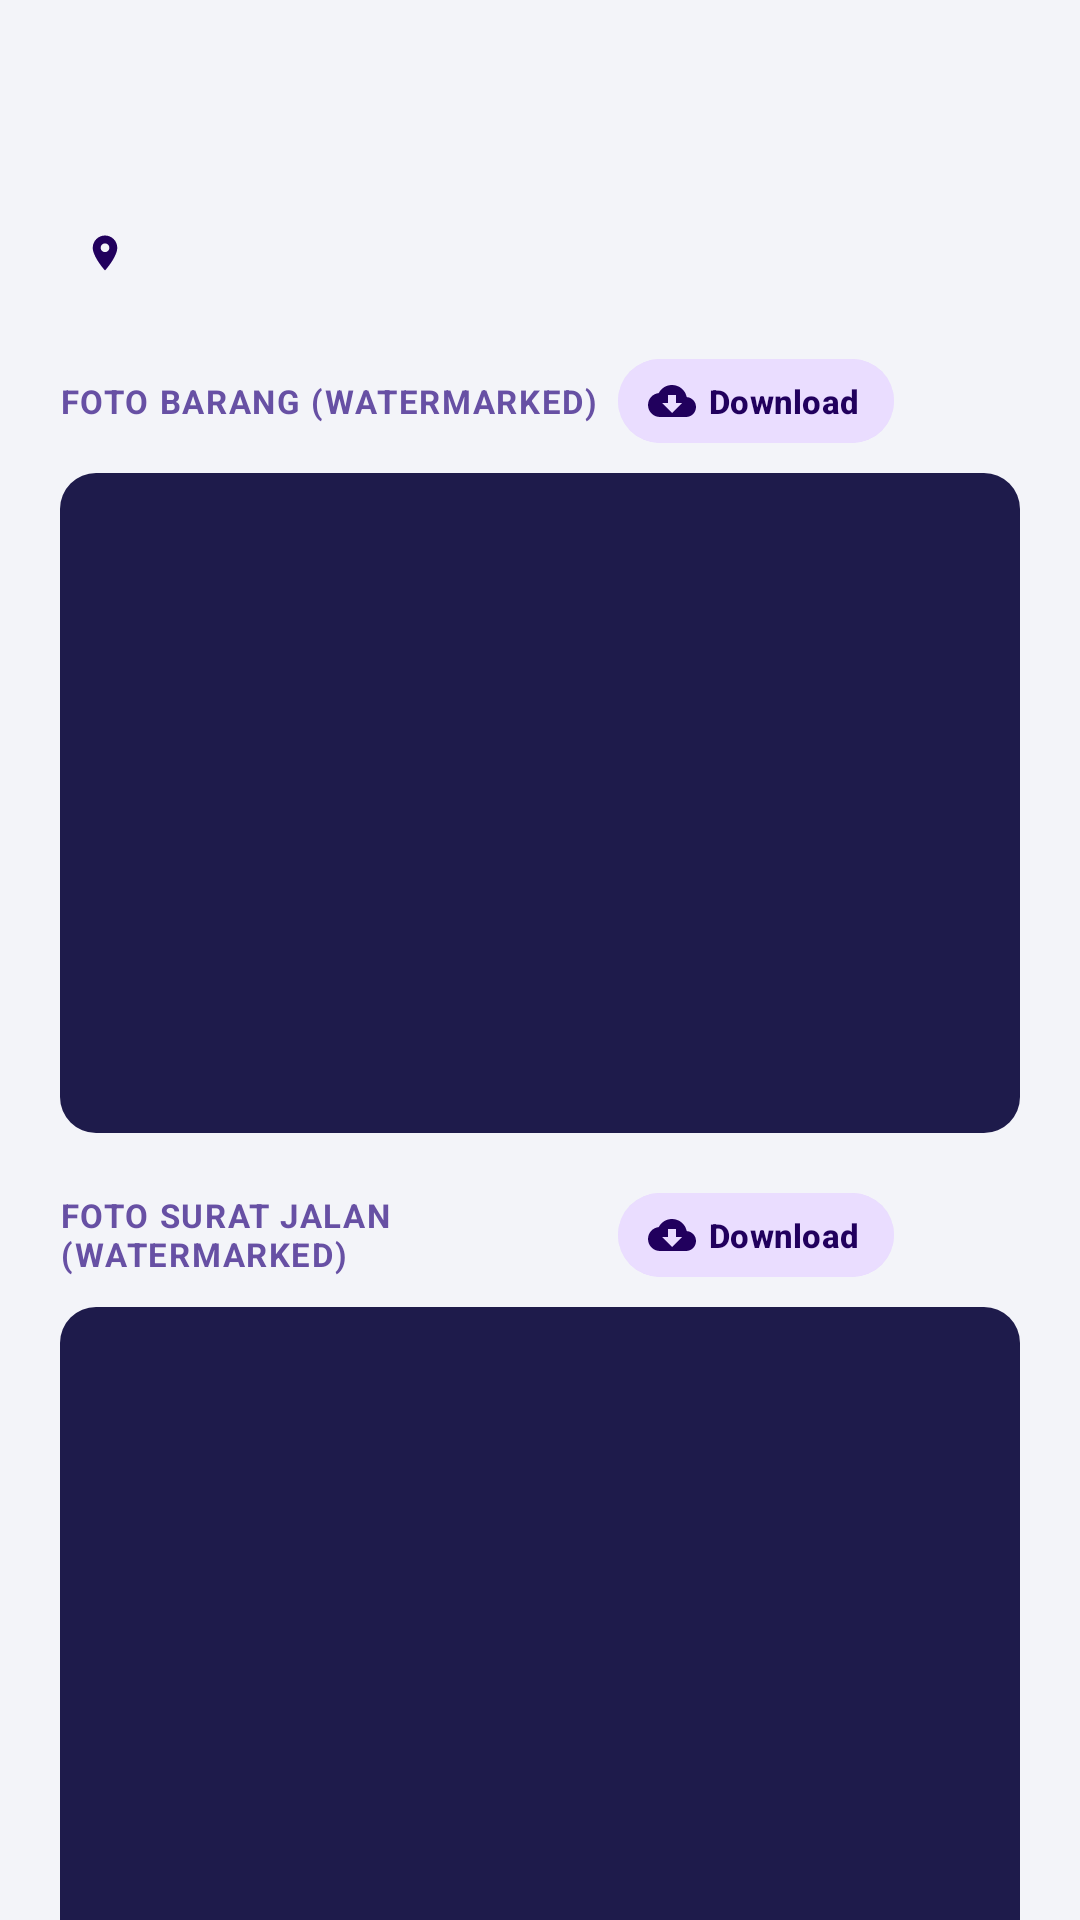

Point at icon controls on the screen. Image size 1080 × 1920, points as (x,y).
Lokasi: (105,252)
